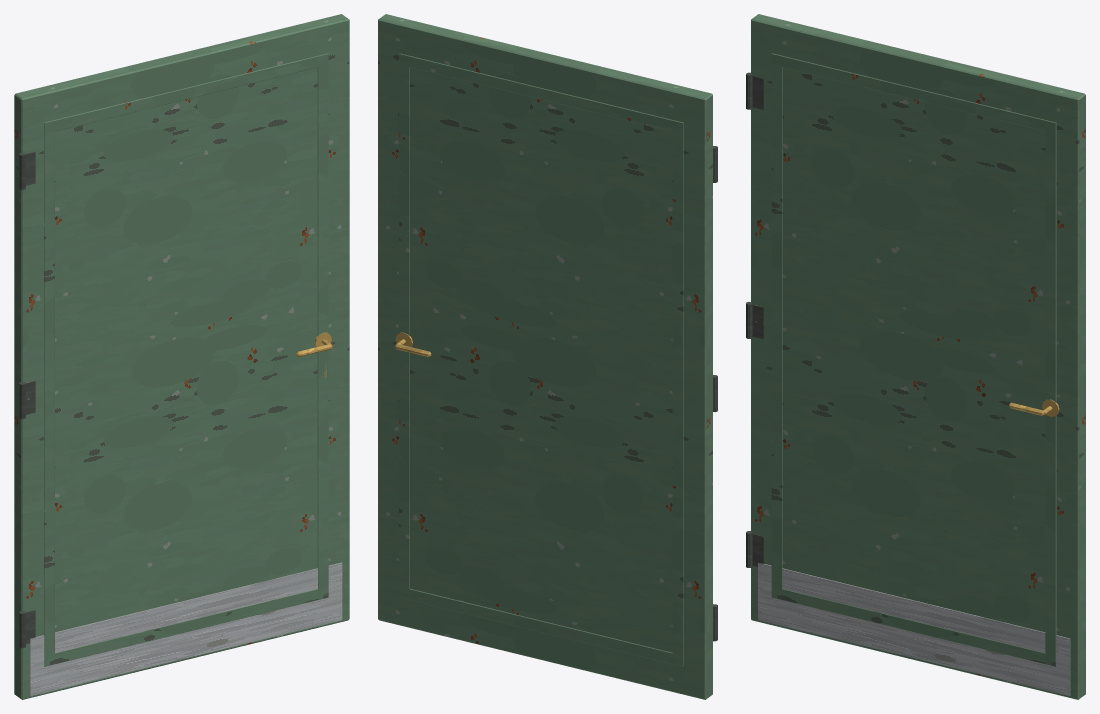
Rendered from gk_door.glb.
3 renders of one model, left to right at view 1: azimuth 30°, elevation 25°; view 2: azimuth 150°, elevation 25°; view 3: azimuth 330°, elevation 25°, orthographic.
Parts seen in each view (by area): view 1: p; view 2: p; view 3: p.
Part boxes in pixels (x1=…): p: x1=14, y1=14, x2=349, y2=699; p: x1=378, y1=14, x2=717, y2=699; p: x1=746, y1=14, x2=1085, y2=699.
Size of the model in its own units: 1.21 by 2.1 by 0.166.
Materials: 4 (4 with a texture image).
